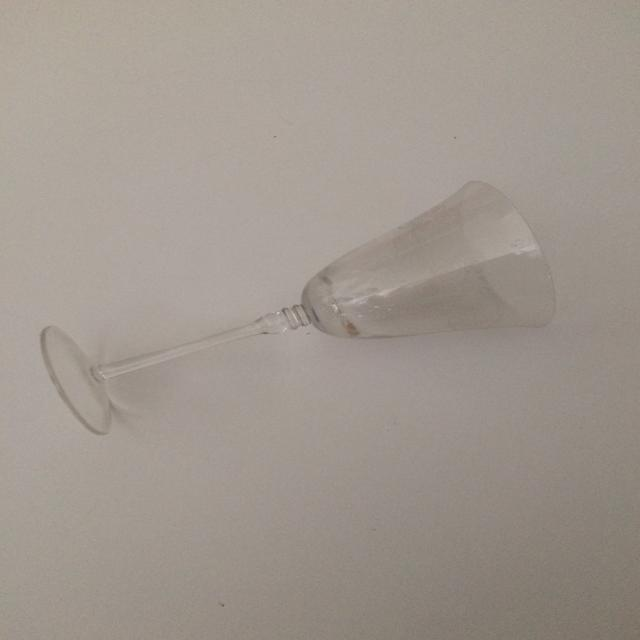glass: (40, 179, 557, 436)
